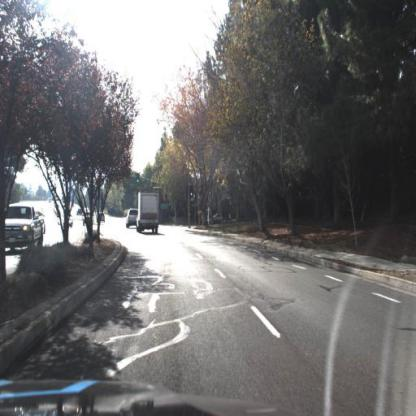car: (1, 203, 48, 254), (124, 206, 141, 232)
truck: (134, 188, 163, 235)
